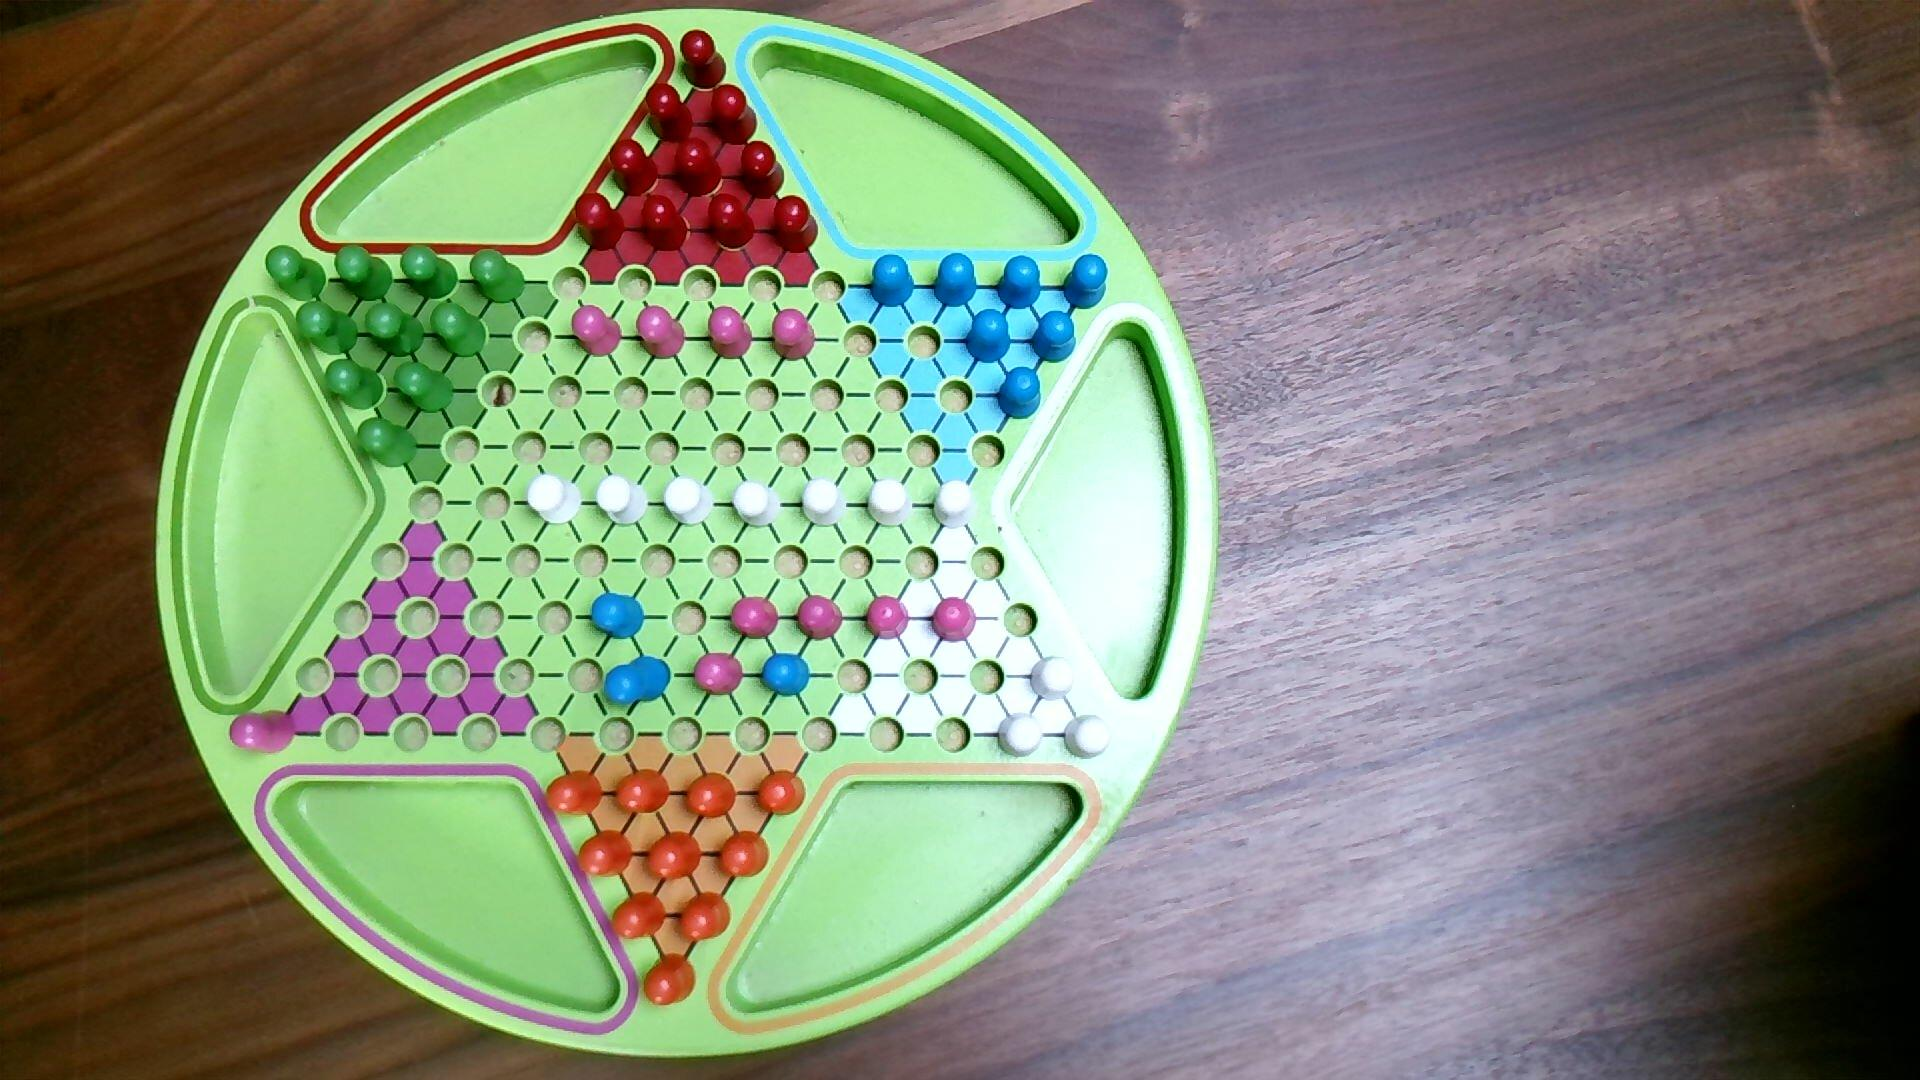B: (603, 655, 674, 708), (589, 591, 647, 641), (1062, 253, 1110, 311), (964, 309, 1013, 365), (996, 255, 1043, 311), (1030, 310, 1077, 365), (869, 253, 916, 309), (934, 252, 978, 310), (997, 367, 1044, 421), (760, 651, 812, 698)
G: (334, 243, 396, 303), (265, 244, 328, 303), (294, 301, 360, 357), (400, 243, 462, 302), (429, 301, 491, 359), (364, 301, 426, 359), (393, 361, 456, 415), (469, 248, 527, 306), (357, 415, 419, 469), (324, 357, 386, 411)
O: (642, 951, 699, 1009), (644, 829, 704, 884), (676, 891, 735, 944), (576, 829, 636, 880), (545, 769, 605, 818), (611, 891, 669, 942), (613, 767, 673, 815), (682, 771, 738, 820), (717, 829, 771, 880), (756, 769, 808, 818)
R: (574, 190, 626, 255), (673, 135, 724, 199), (644, 82, 695, 145), (709, 83, 760, 146), (608, 138, 659, 199), (771, 194, 822, 255), (640, 194, 690, 255), (680, 28, 728, 91), (705, 193, 757, 251), (738, 140, 787, 200)
R2: (229, 709, 298, 756), (636, 305, 688, 361), (571, 305, 624, 359), (707, 305, 756, 361), (771, 307, 818, 363), (694, 651, 746, 698), (795, 593, 844, 642), (729, 595, 781, 641), (864, 593, 911, 642), (930, 596, 978, 644)
W: (595, 472, 651, 529), (526, 473, 584, 527), (662, 475, 716, 529), (800, 476, 849, 530), (733, 480, 783, 530), (1063, 713, 1114, 762), (866, 477, 914, 530), (1029, 655, 1077, 704), (932, 479, 977, 531), (997, 711, 1044, 760)
